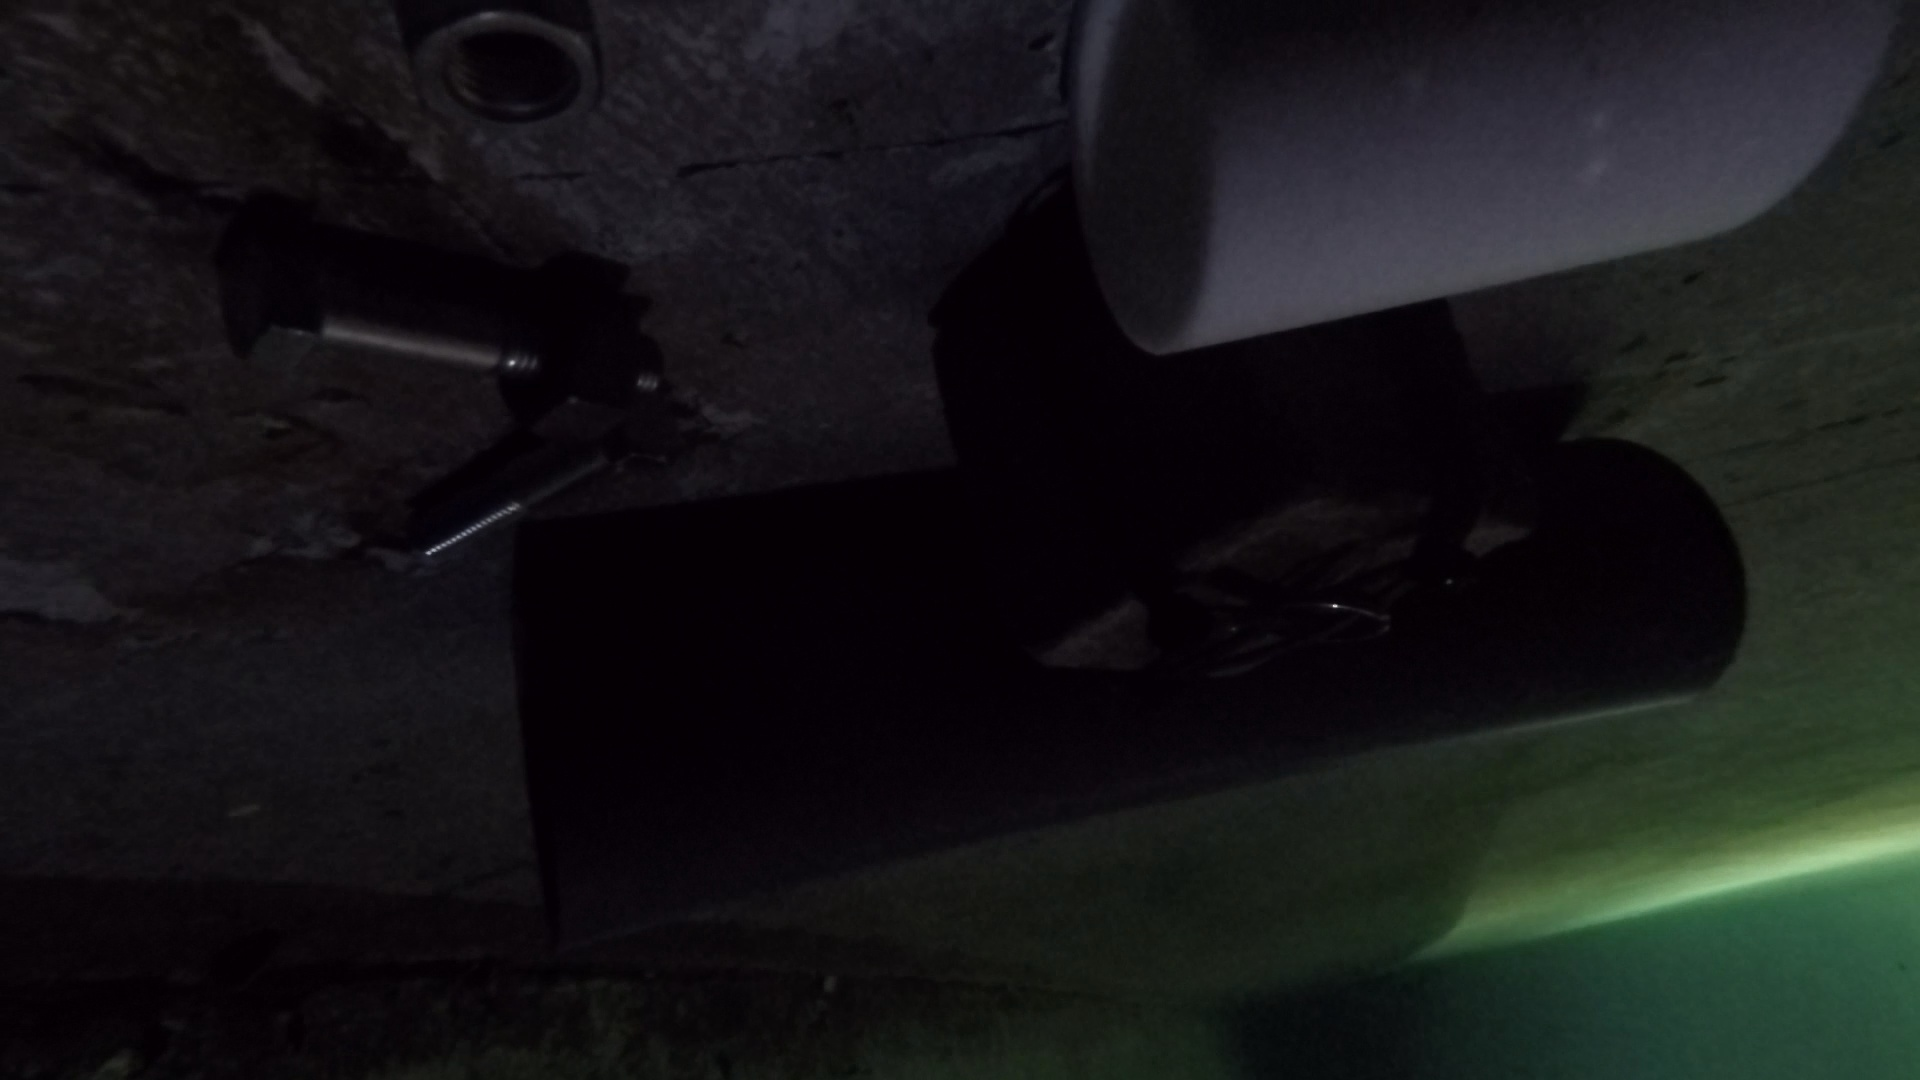bolt: (228, 241, 670, 407), (410, 415, 688, 562)
led_block: (928, 191, 1549, 695)
nut: (397, 1, 611, 145)
pipe: (505, 436, 1749, 956), (1064, 1, 1903, 361)
